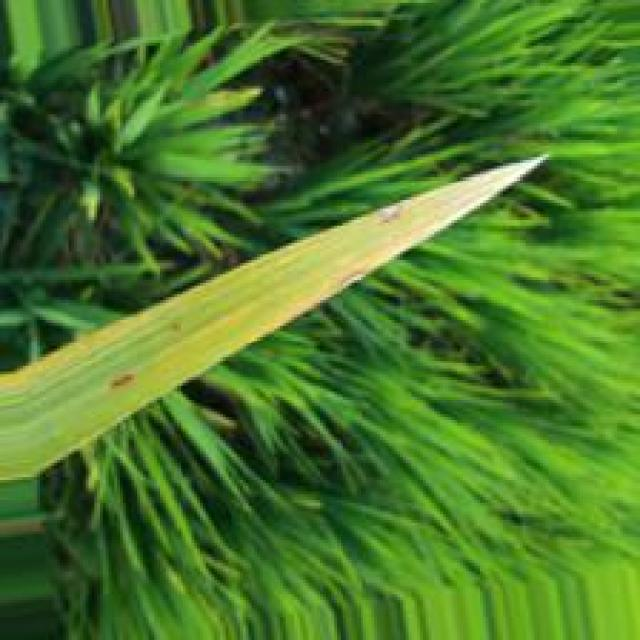Brown_Spot: (107, 369, 134, 393), (376, 204, 401, 226)
